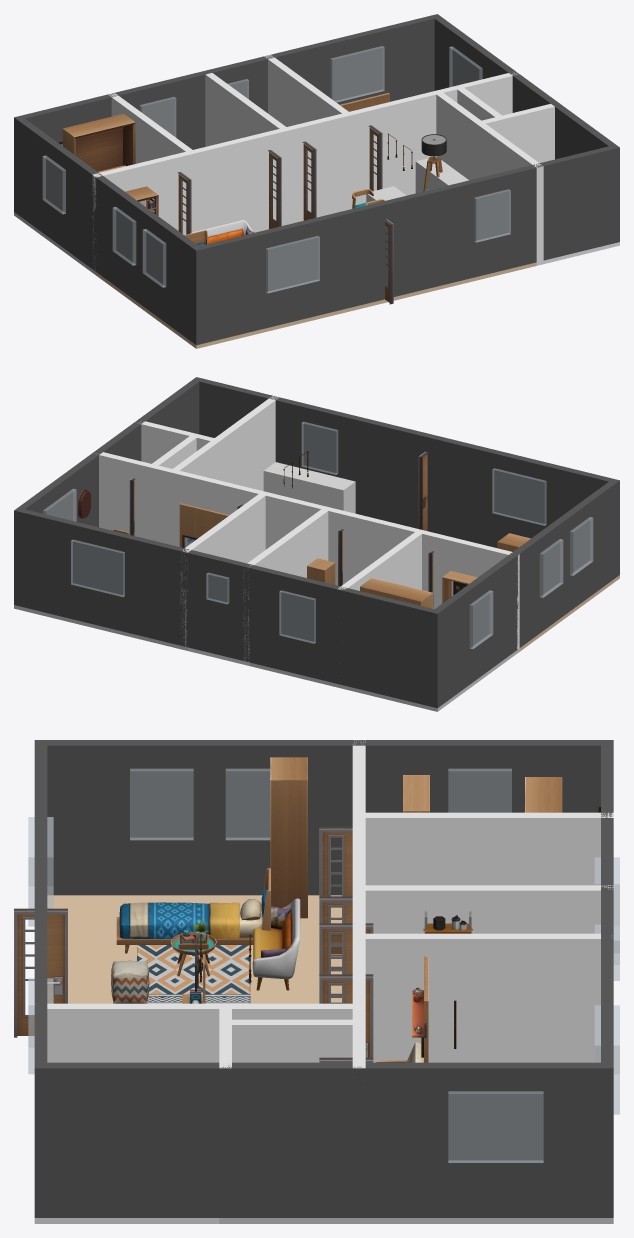
The model's file is 3d_floor_plan_enhanced.glb.
3 renders of one model, top to bottom at view 1: azimuth 30°, elevation 25°; view 2: azimuth 150°, elevation 25°; view 3: azimuth 270°, elevation 25°, orthographic. The views are drawn at different scales.
Visible parts, largest first — view 1: 3D_Floor_Plan_Enhanced; view 2: 3D_Floor_Plan_Enhanced; view 3: 3D_Floor_Plan_Enhanced.
Boxes of the visible parts, x1,y1,x2,y2 form: 3D_Floor_Plan_Enhanced: (14, 14, 619, 348); 3D_Floor_Plan_Enhanced: (14, 377, 619, 711); 3D_Floor_Plan_Enhanced: (14, 740, 619, 1223).
Size of the model in its own units: 12.4 by 2.81 by 9.53.
47 materials, 37 textured.
